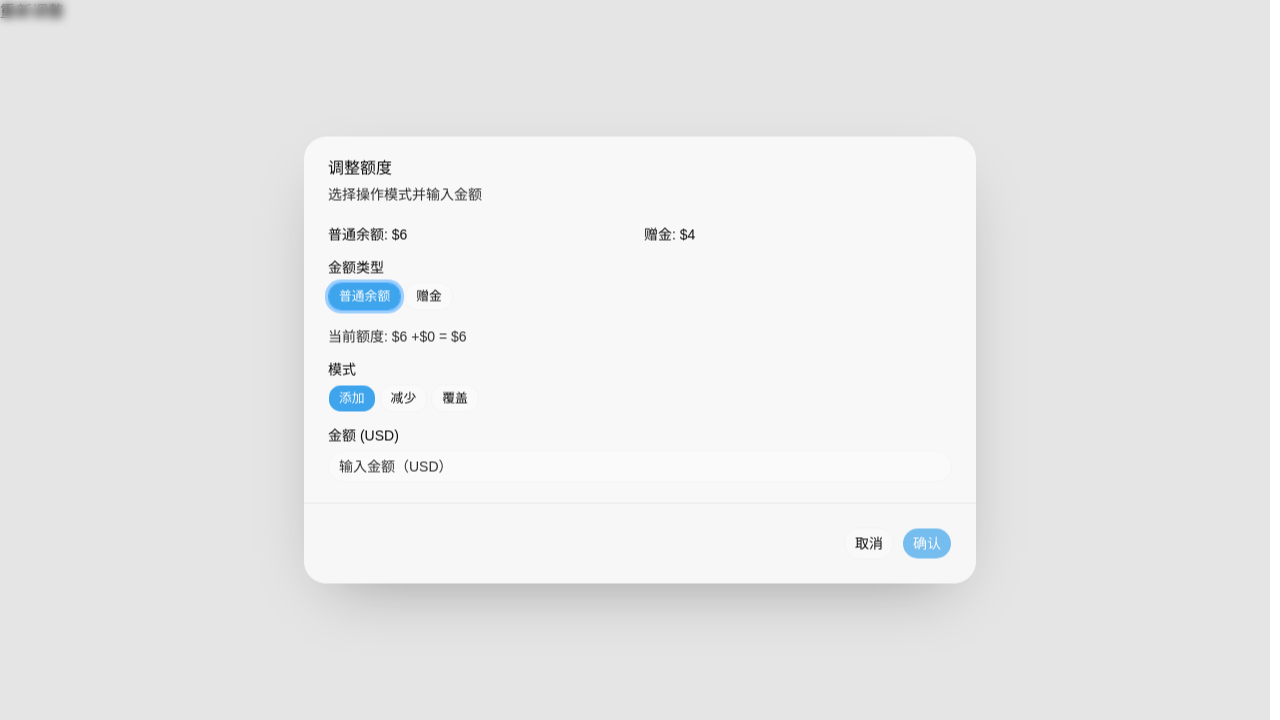
it: 单独减少赠金时只提交赠金类别，普通余额保持原值
The image size is (1280, 720).
Expected: the text "普通余额: $6" is shown, [328,226,407,242]
Click the button "赠金" at (429, 296), box [405,282,453,310]
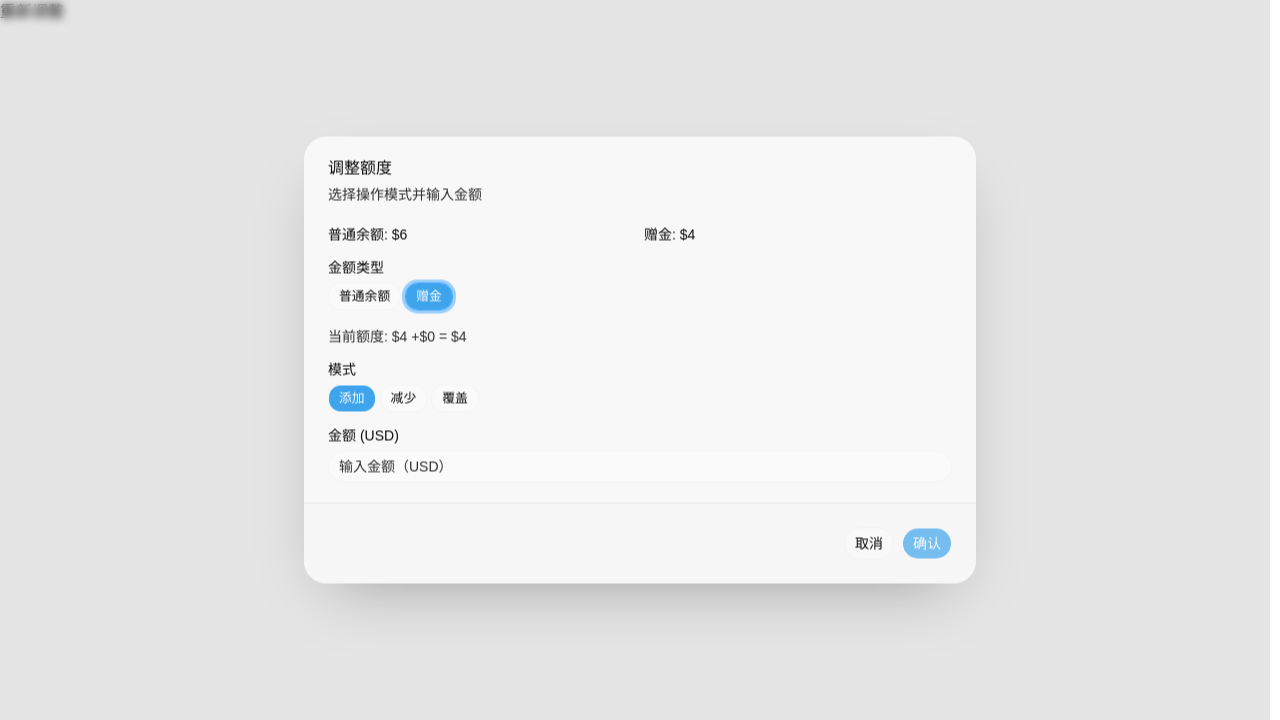
Expected: the button "赠金" is pressed, [405,282,453,310]
Click the button "减少" at (403, 398), box [380,384,427,412]
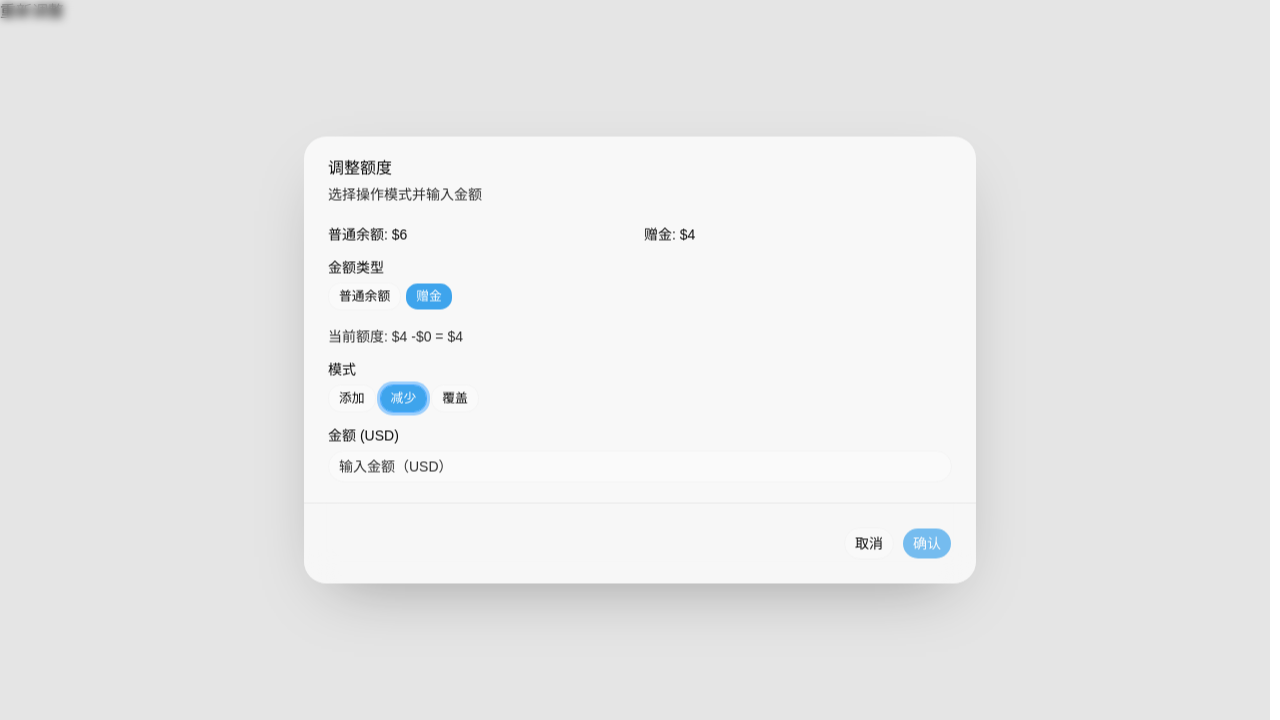
Type "1" into the number field at (640, 466), box [328,450,952,482]
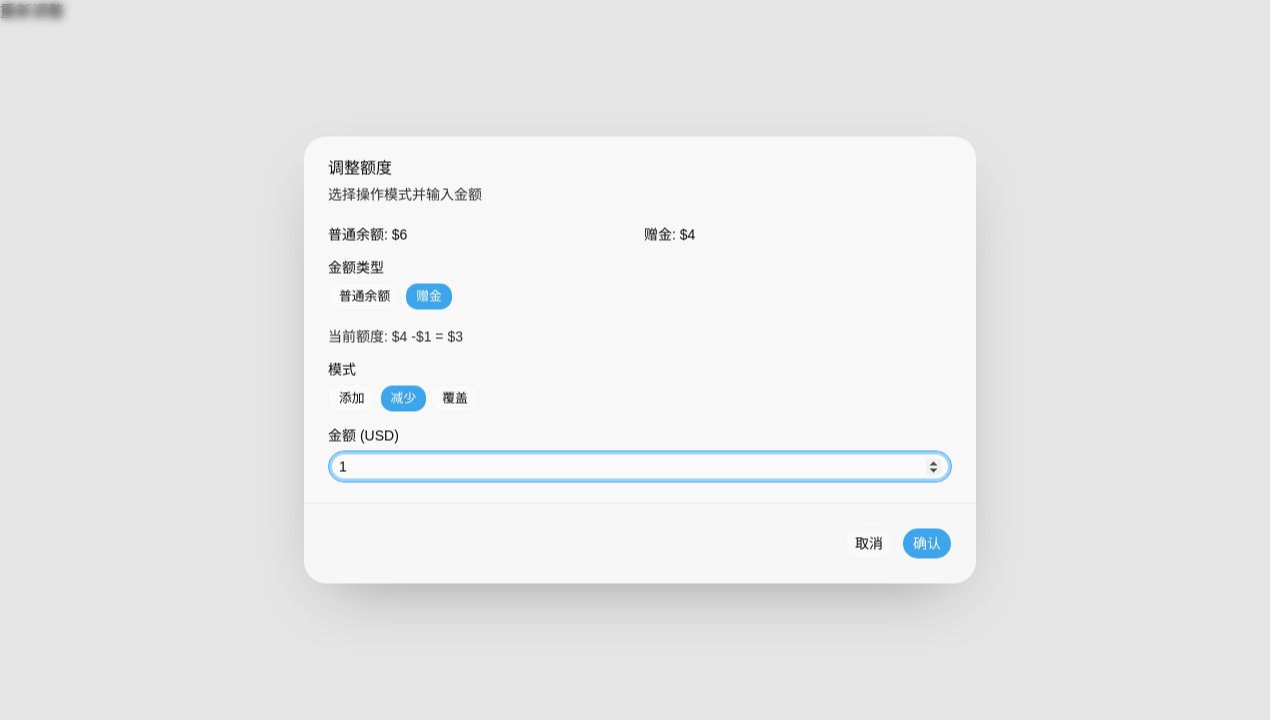
Click the button "确认" at (927, 544), box [902,528,952,560]
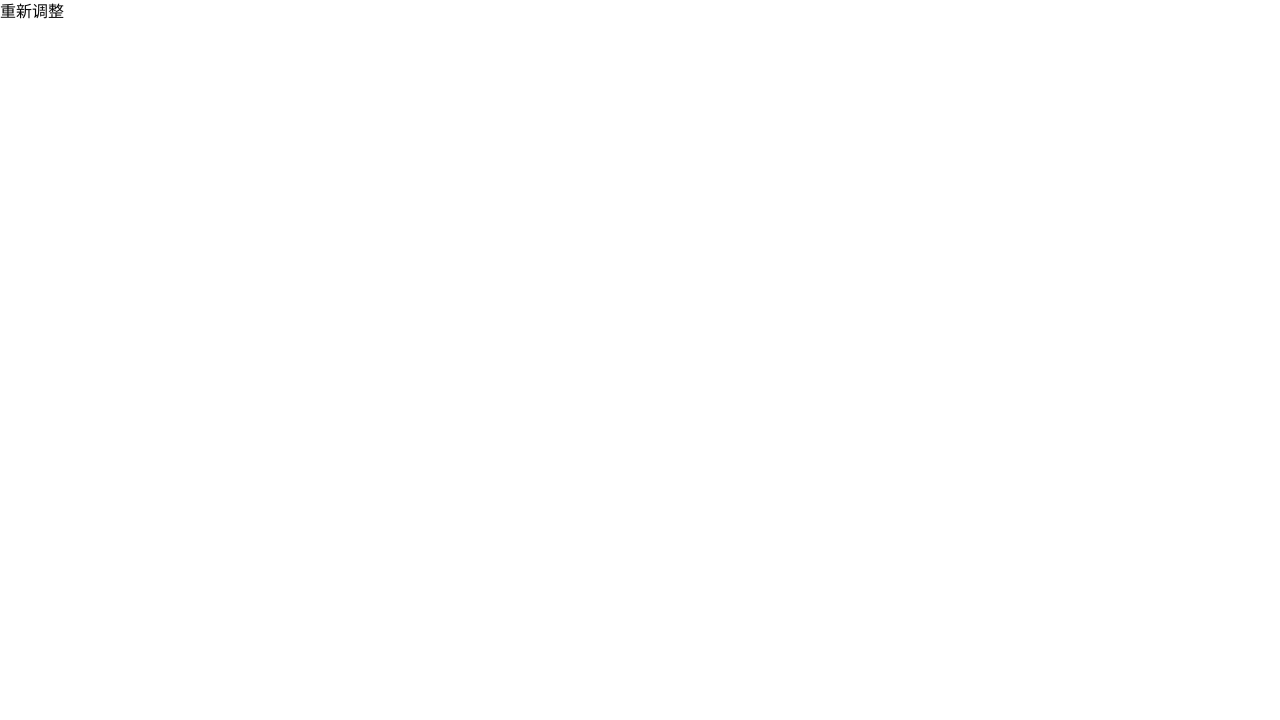
Expected: the dialog is gone
